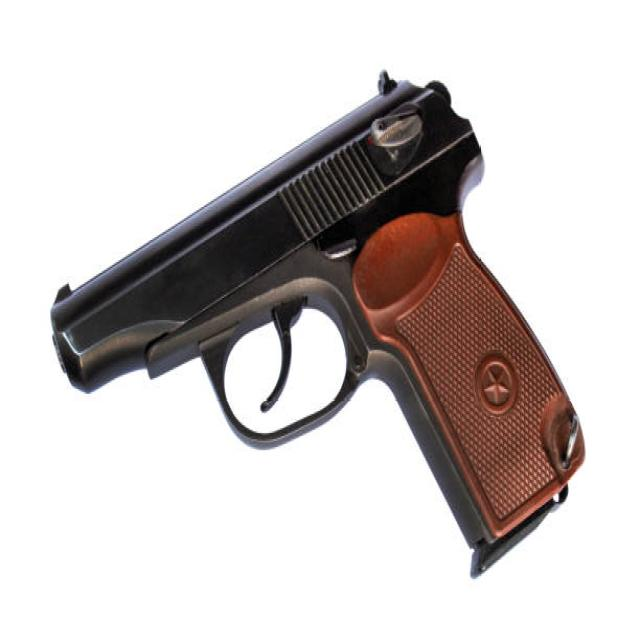pistol: (43, 61, 594, 588)
